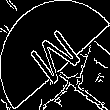M_SE: (24, 21, 86, 89)
